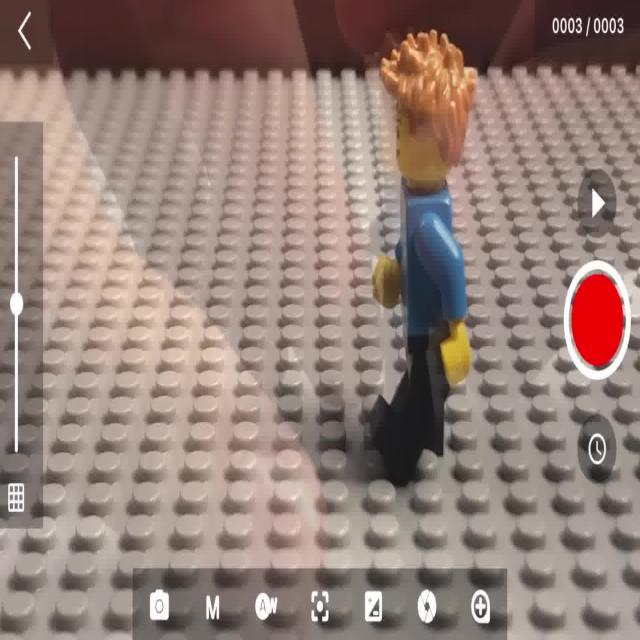4: (416, 218, 474, 388), (368, 253, 409, 311)
hand: (362, 32, 486, 488)
